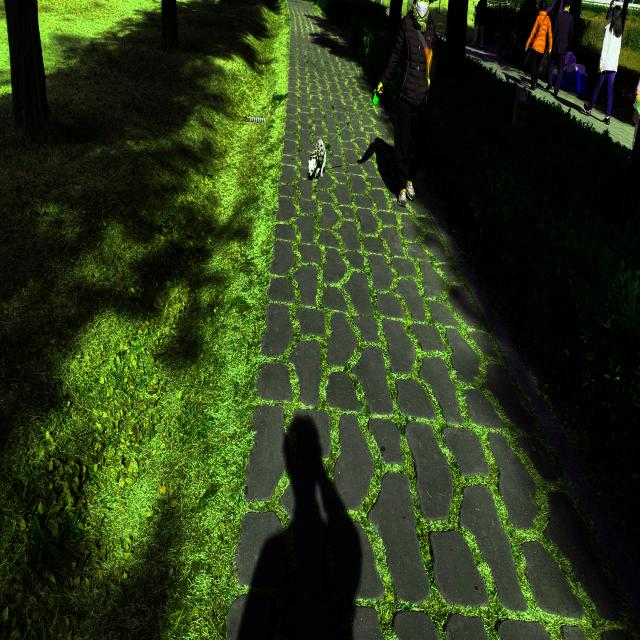Leashed_Dog: (307, 80, 409, 180)
